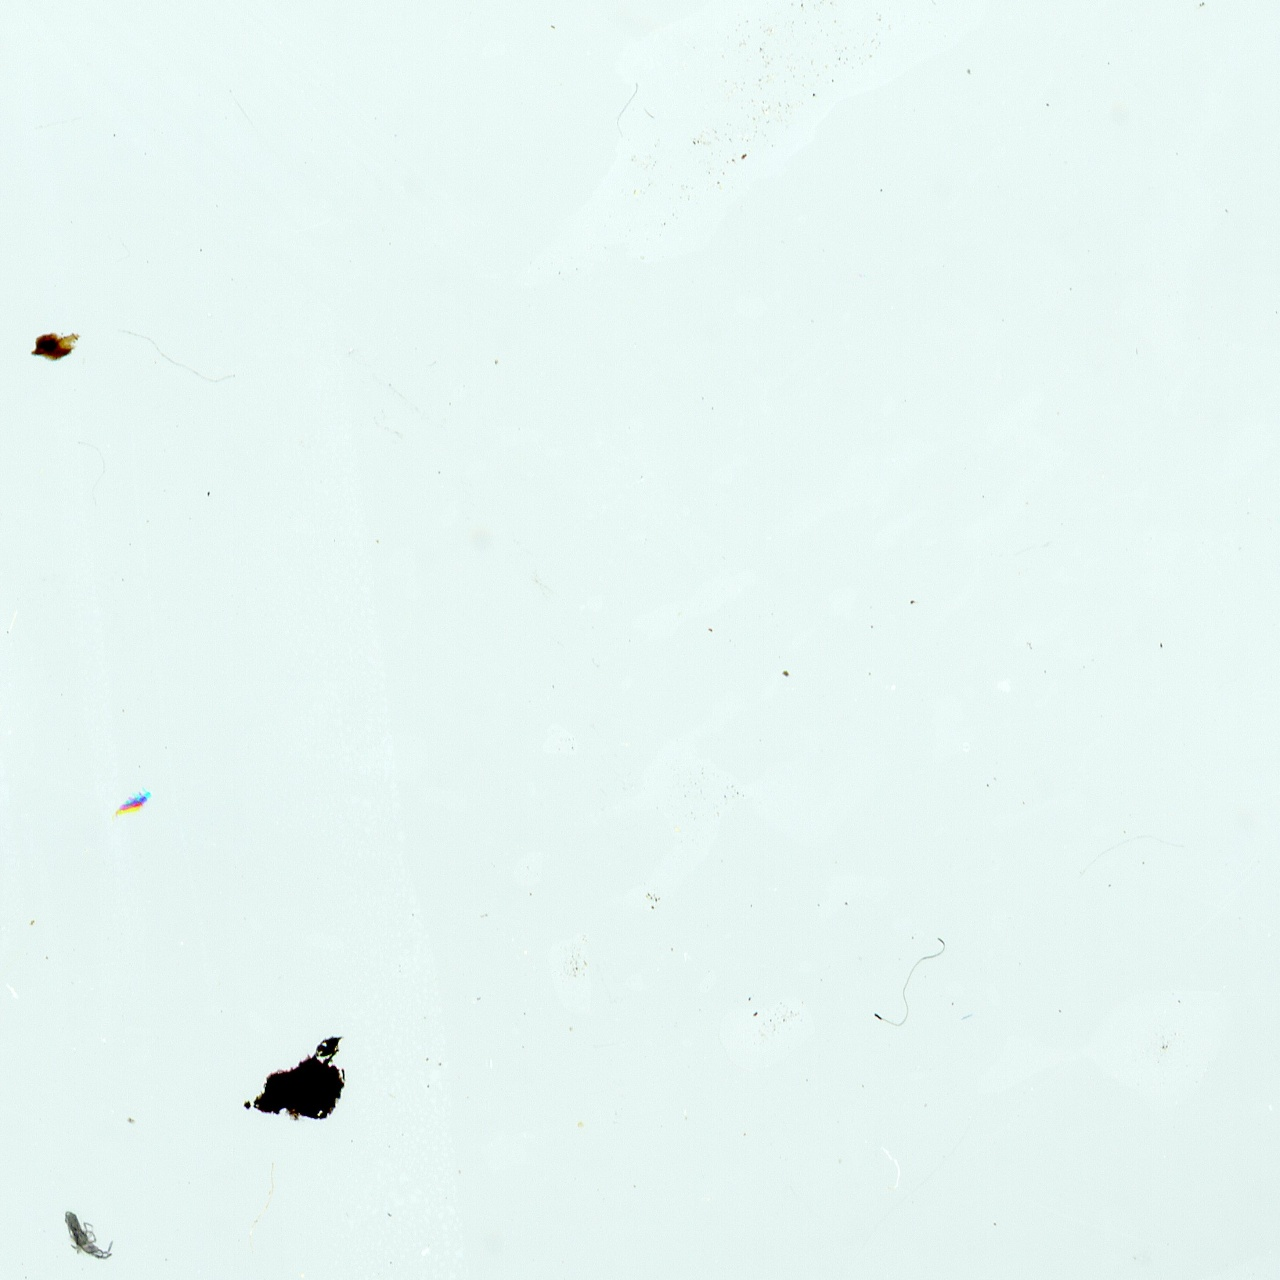arthropod: (53, 1201, 124, 1266), (102, 784, 154, 825)
